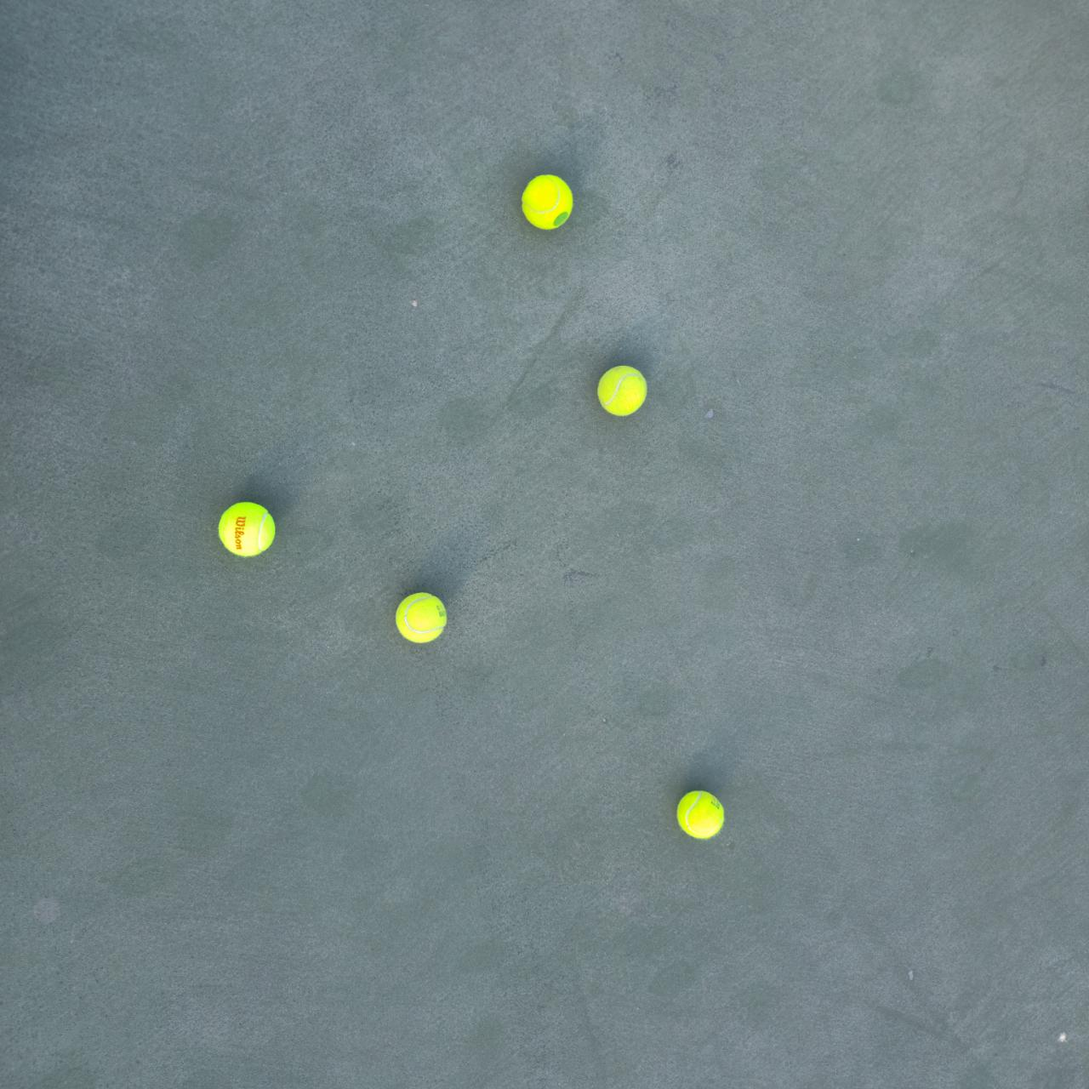tennis-ball: (216, 499, 277, 558), (519, 171, 574, 231), (393, 589, 448, 643), (596, 362, 647, 417), (674, 787, 726, 840)
